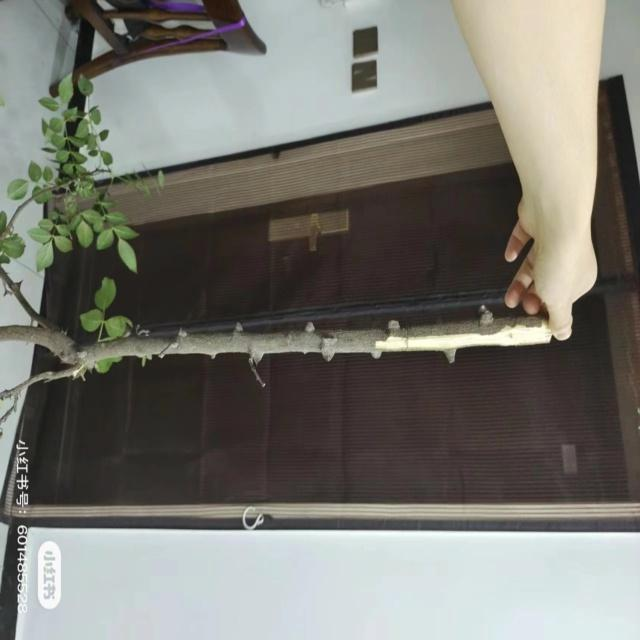branch: (0, 300, 553, 400)
